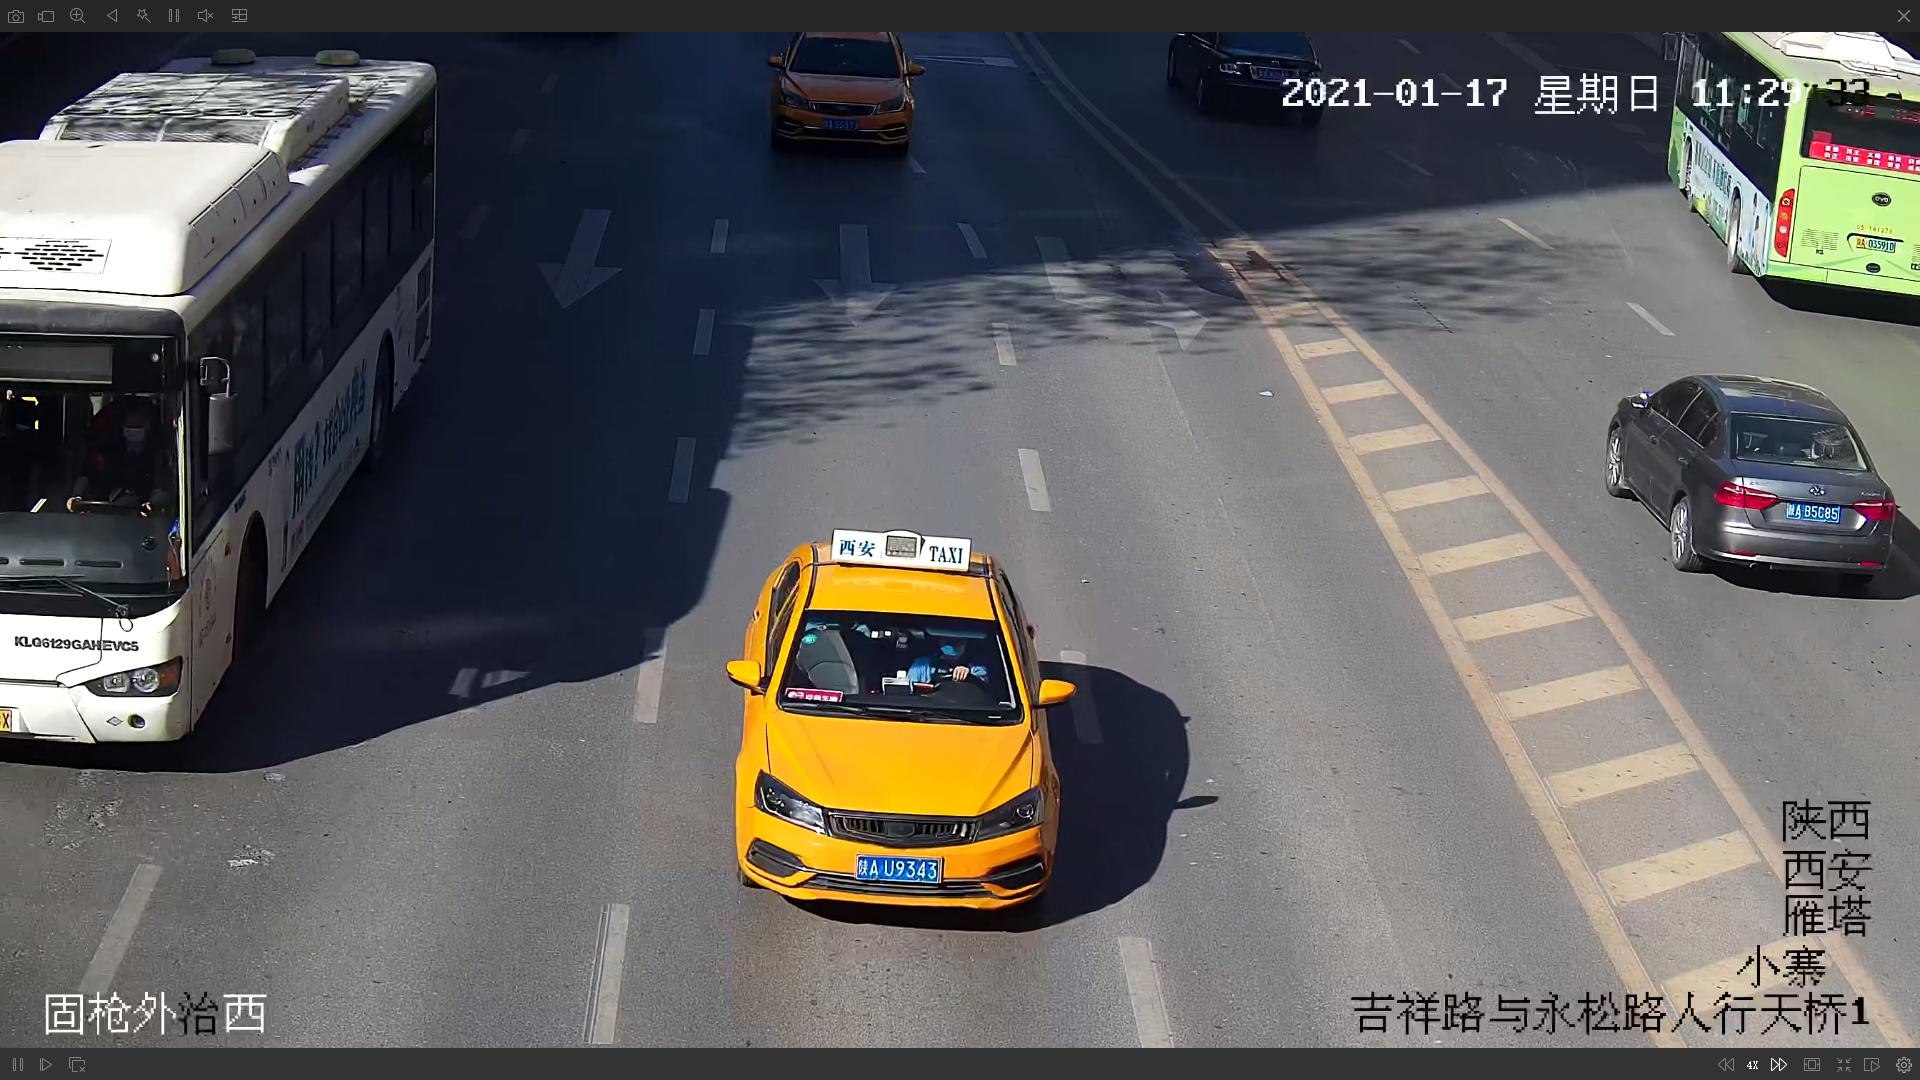orange: (733, 538, 1064, 909), (764, 36, 920, 152)
white: (5, 50, 448, 756)
